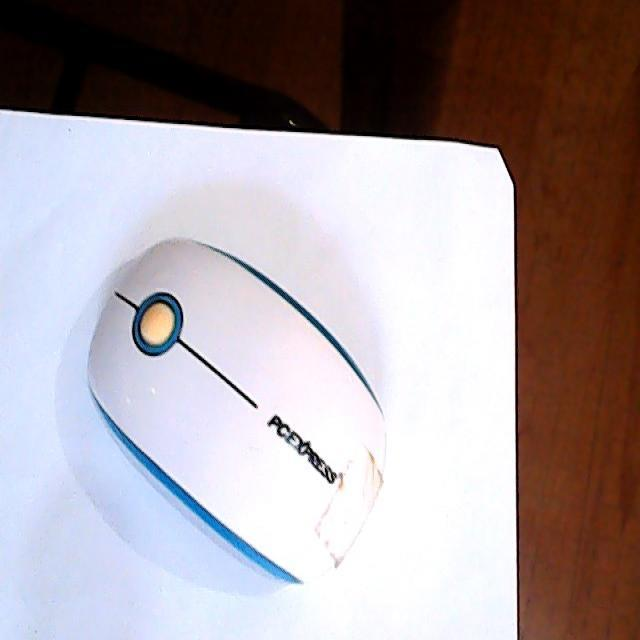mouse: (86, 232, 390, 590)
